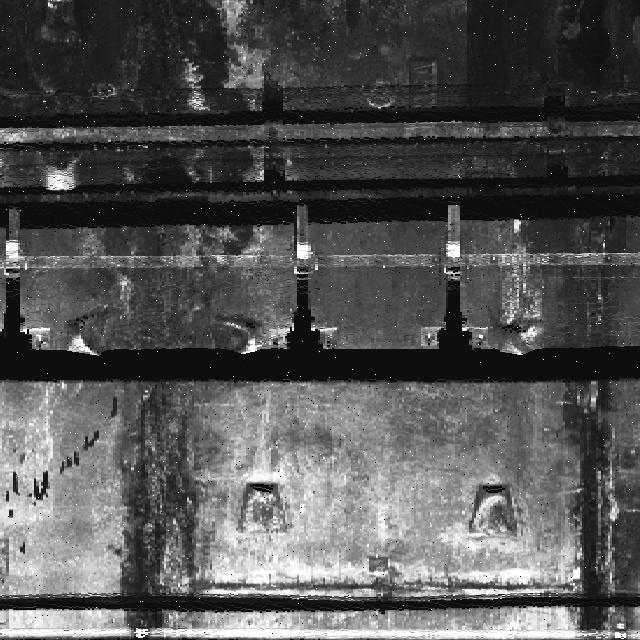leakage: (464, 3, 639, 351), (7, 5, 274, 186), (89, 377, 242, 637), (56, 224, 262, 353), (560, 382, 639, 639)
